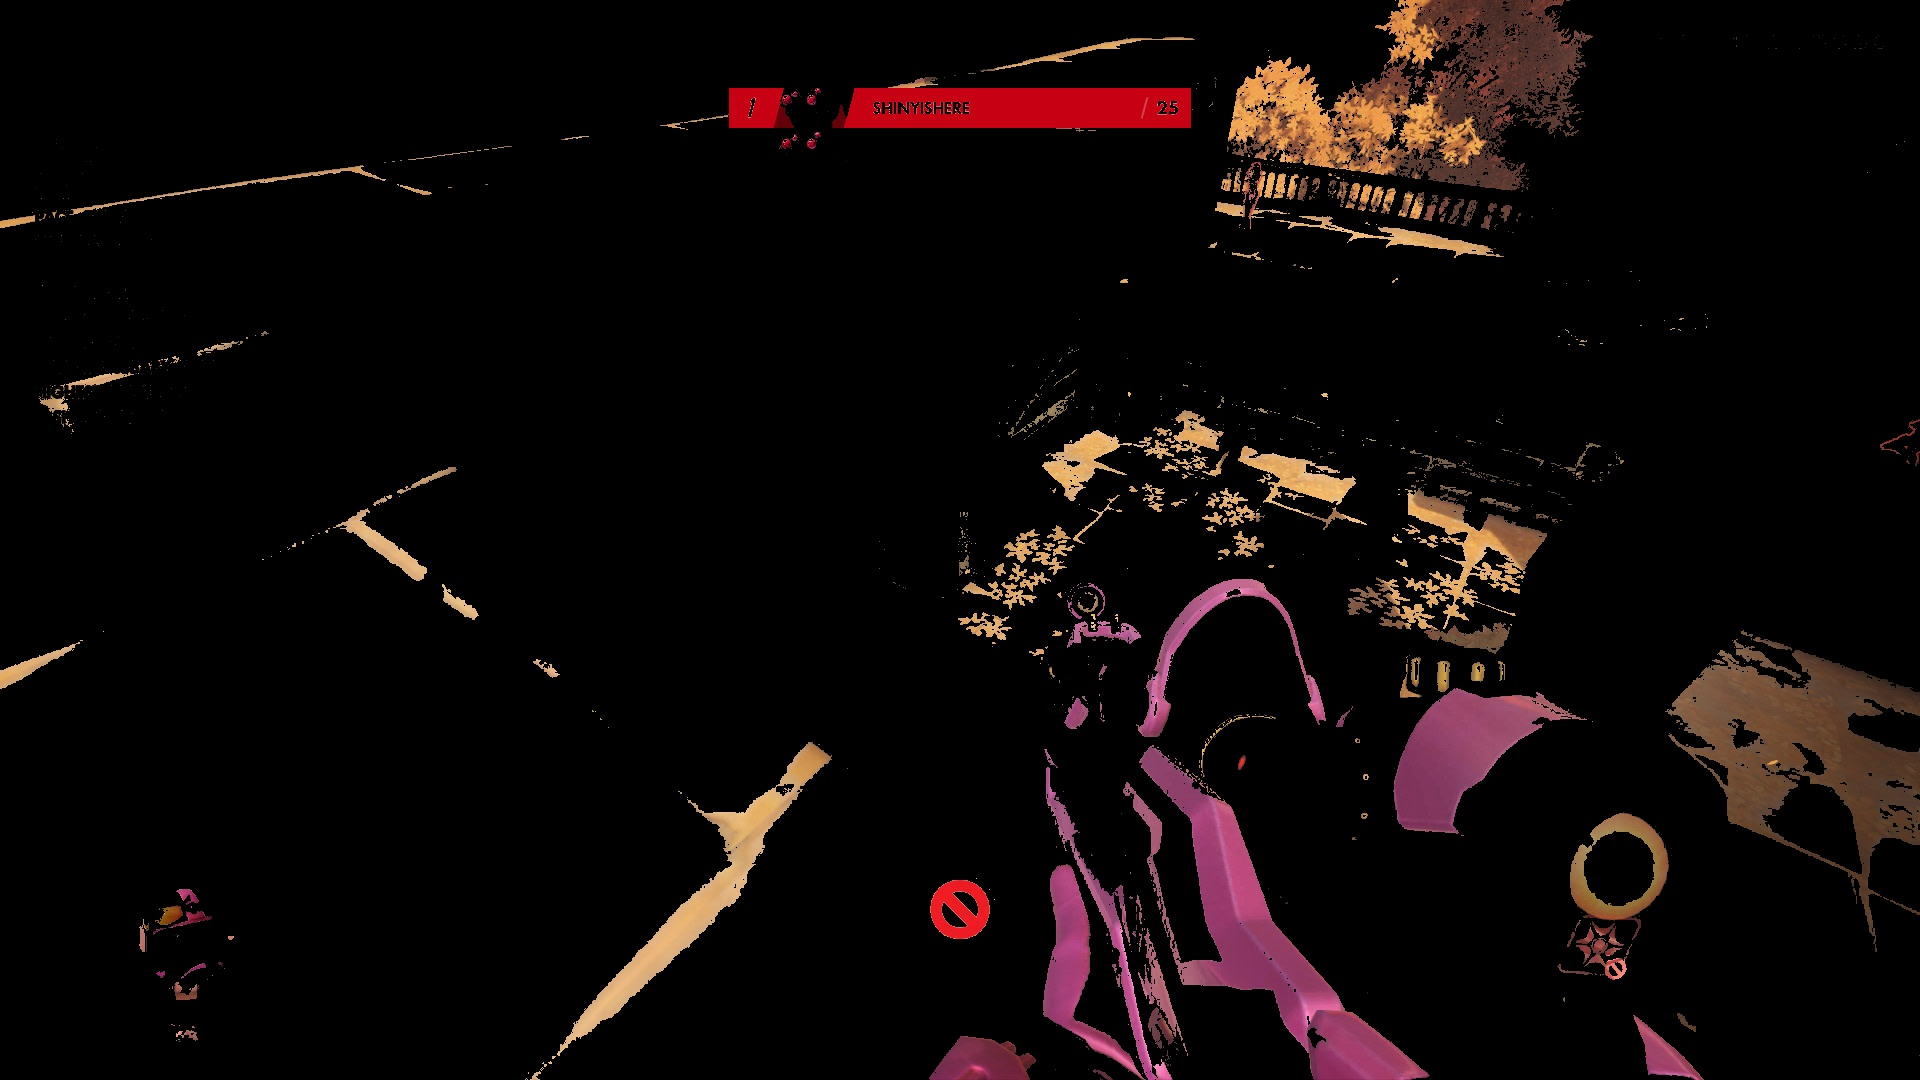widowmaker: (1236, 160, 1267, 237), (1890, 415, 1920, 471)
